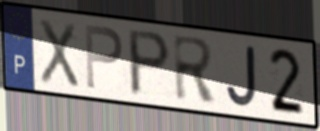2: (267, 47, 307, 119)
J: (224, 43, 259, 109)
P: (127, 27, 173, 98), (83, 21, 125, 92)
R: (171, 32, 219, 105)
X: (37, 15, 81, 91)
